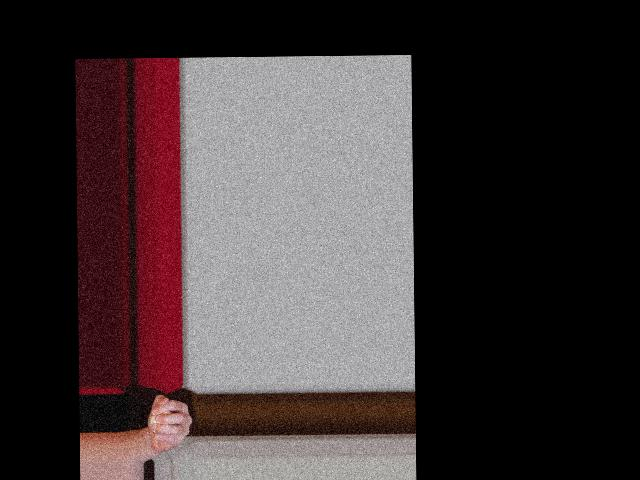egg: (149, 408, 173, 432)
